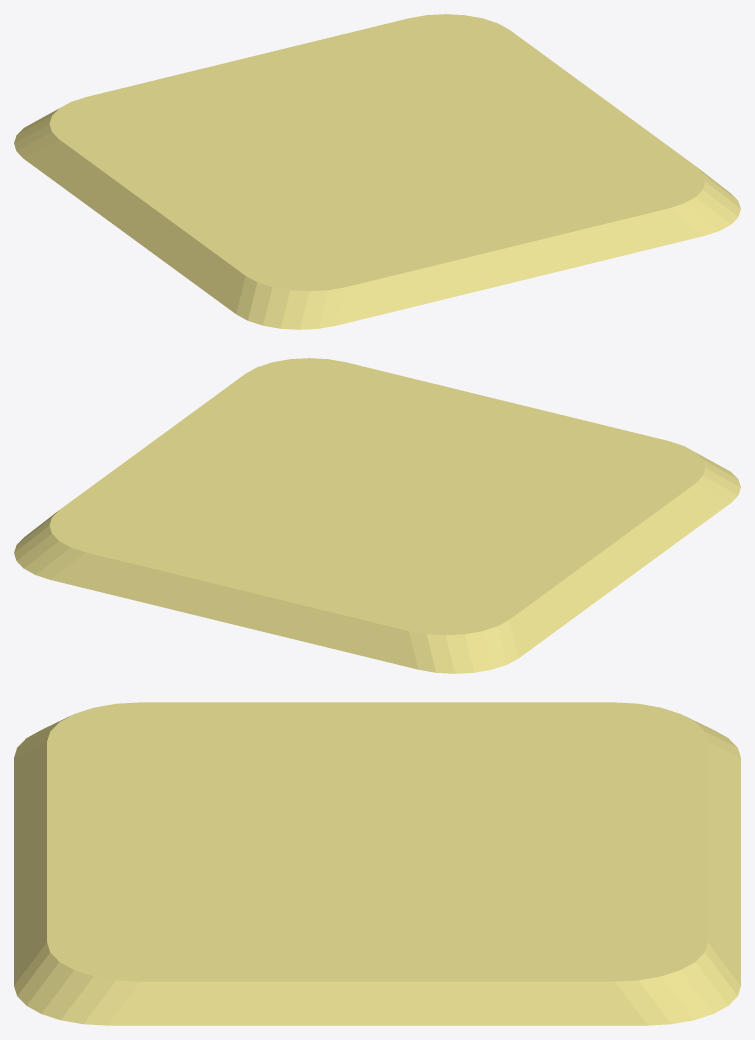
Rendered from Yellow.fbx.
3 views of the same model, one above another, from view 1: azimuth 30°, elevation 25°; view 2: azimuth 150°, elevation 25°; view 3: azimuth 270°, elevation 25° (orthographic). The views are drawn at different scales.
Visible parts, largest first — view 1: Cube.001; view 2: Cube.001; view 3: Cube.001.
Boxes of the visible parts, x1,y1,x2,y2 form: Cube.001: (14,14,740,329); Cube.001: (14,358,740,673); Cube.001: (14,702,740,1025).
Bounding box in the file's own units: 220 × 10 × 220.
